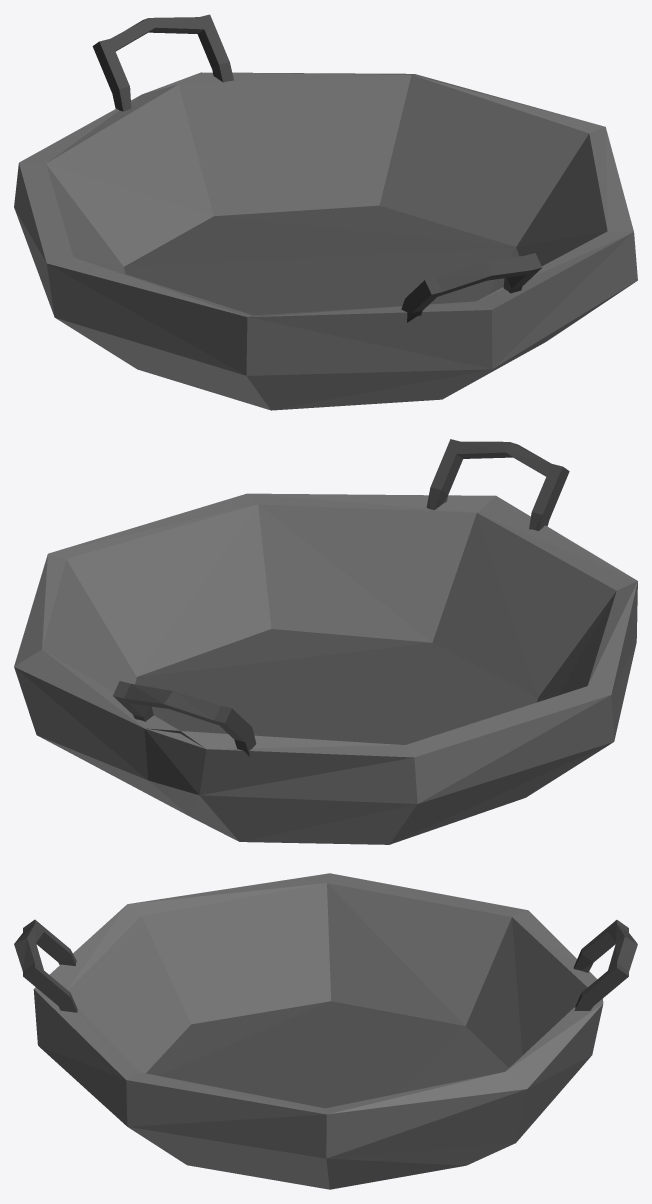
File: AWS_Frying_Pan_005.fbx
3 views of the same model, one above another, from view 1: azimuth 30°, elevation 25°; view 2: azimuth 150°, elevation 25°; view 3: azimuth 270°, elevation 25° (orthographic). The views are drawn at different scales.
Parts seen in each view (by area): view 1: AWS_Frying_Pan_005; view 2: AWS_Frying_Pan_005; view 3: AWS_Frying_Pan_005.
Part boxes in pixels (left/top/right/bottom): AWS_Frying_Pan_005: left=14, top=14, right=637, bottom=410; AWS_Frying_Pan_005: left=14, top=439, right=637, bottom=844; AWS_Frying_Pan_005: left=14, top=873, right=637, bottom=1189.
Size of the model in its own units: 21.48 by 6.93 by 23.33.
